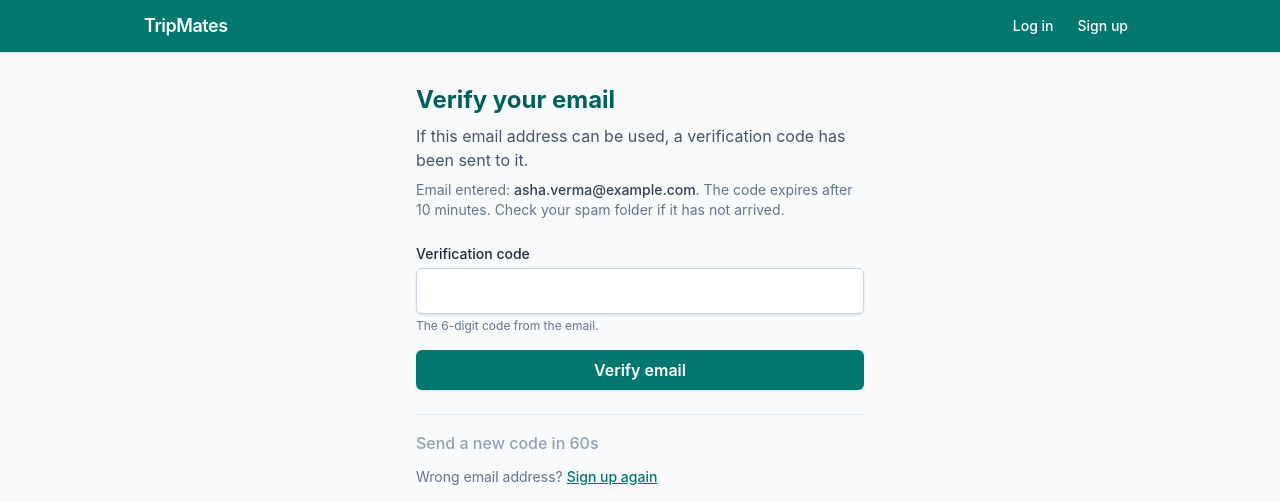
Test: verify-email screen › sends the user to log in once the email is verified
This screenshot has width=1280, height=502.
In the field labelled "Verification code": x=640, y=291 left=416, top=268, right=864, bottom=314, type "482913"
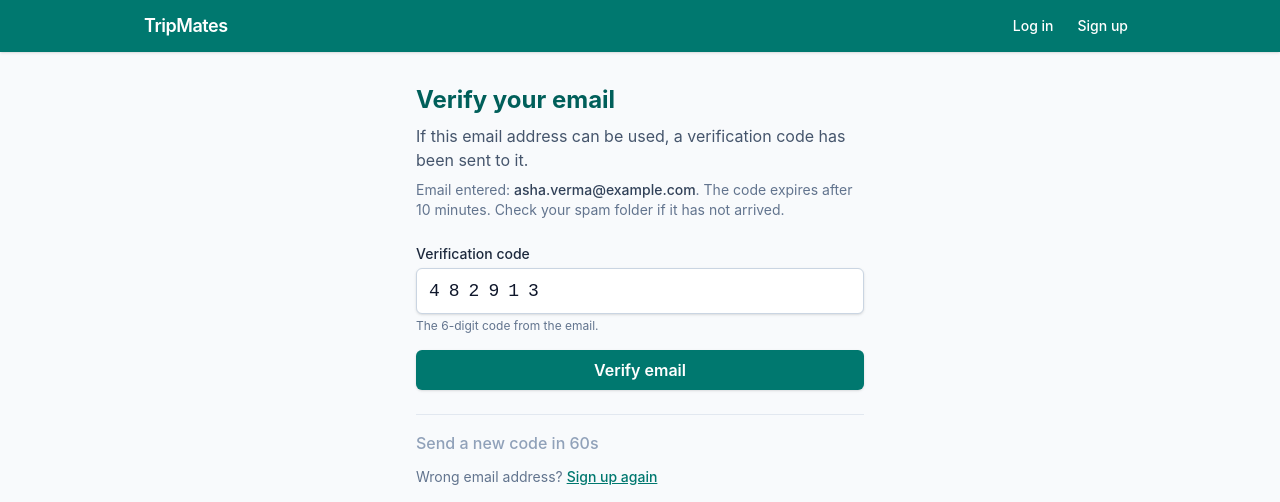
Click the button "Verify email": x=640, y=370 left=416, top=350, right=864, bottom=390
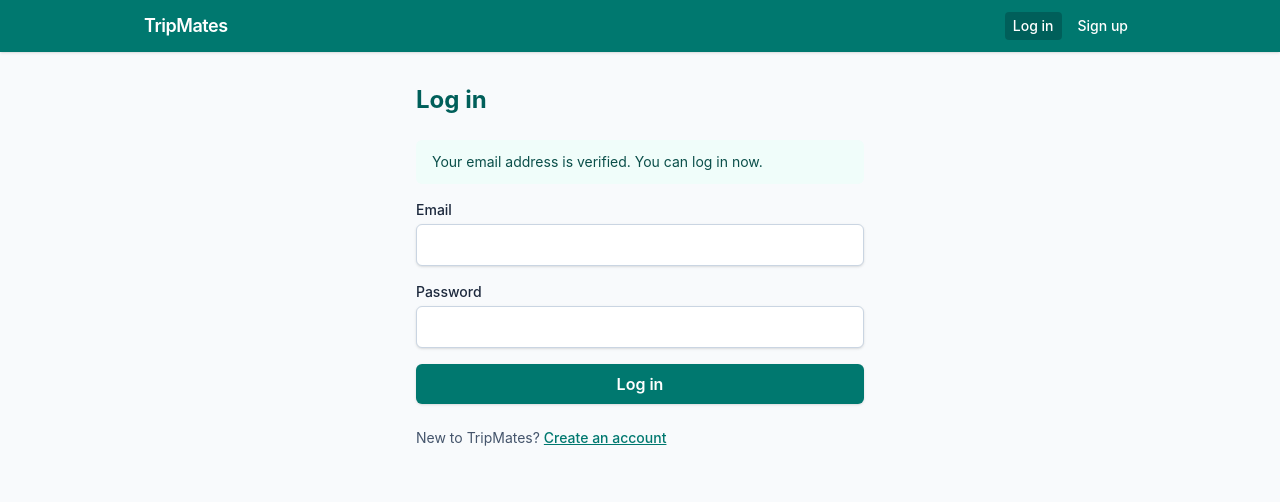
Check: the text "Your email address is verified. You can log in now." is shown, box left=416, top=140, right=864, bottom=184
